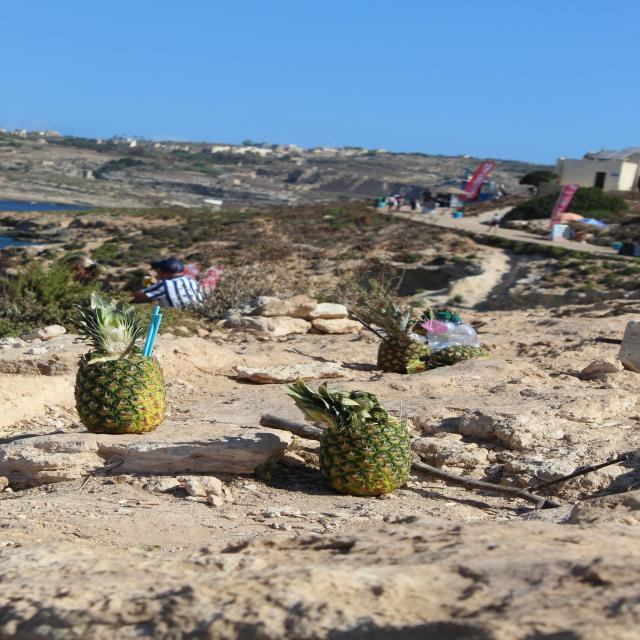Bottle: (428, 312, 457, 353), (452, 316, 482, 349)
Straw: (142, 306, 161, 357), (355, 316, 386, 340), (146, 313, 162, 357)
